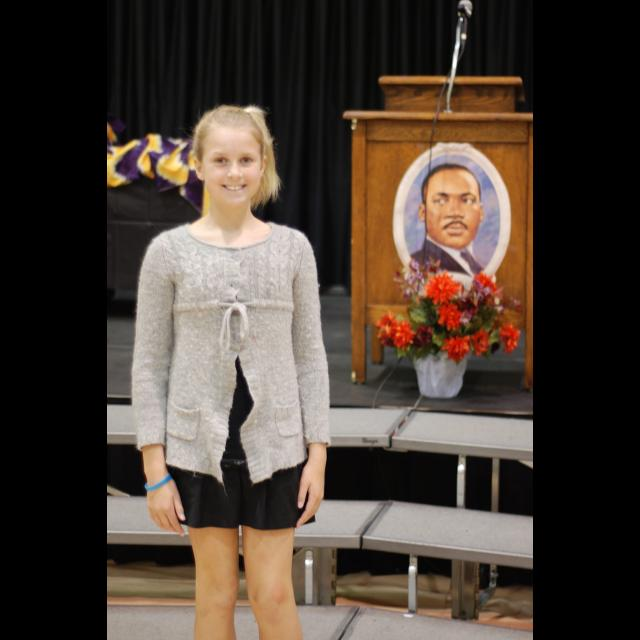Flower: (421, 274, 462, 306), (437, 298, 468, 328), (442, 332, 470, 361), (394, 322, 418, 354), (376, 313, 394, 345), (478, 272, 499, 298), (503, 326, 523, 350), (473, 330, 487, 354)
